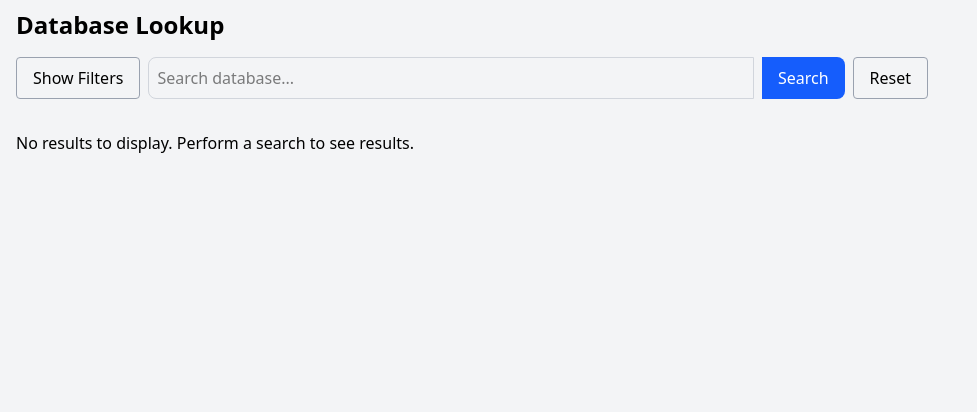
Test: DBLookup Component › transforms search results correctly
Type "test" into the field with placeholder "Search database...". click: (451, 78)
box: [148, 57, 754, 99]
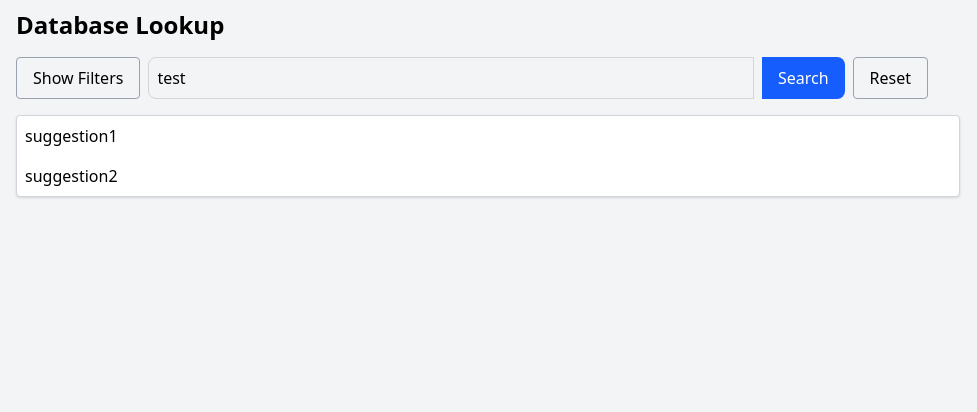
Click the button "Search". click: (803, 78)
box: [762, 57, 844, 99]
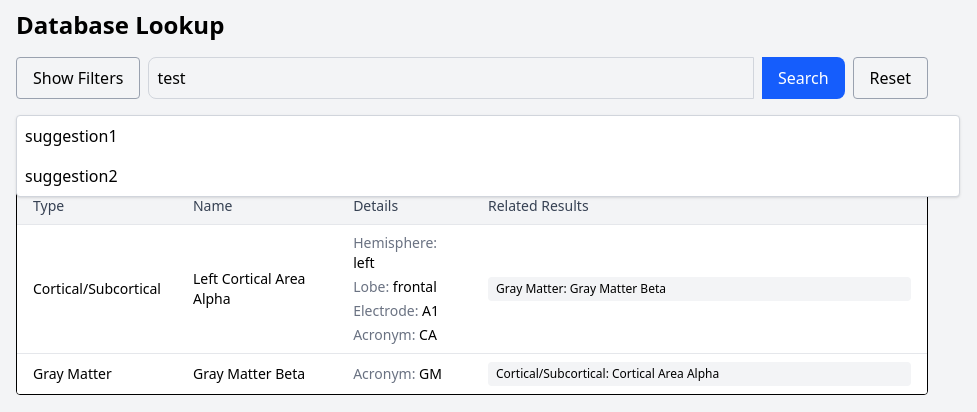
Check: the heading "Results (2)" is shown, box [16, 137, 109, 165]
Check: the text "Cortical/Subcortical" is shown, box [17, 224, 177, 354]
Check: the text "Gray Matter" is shown, box [17, 354, 177, 394]
